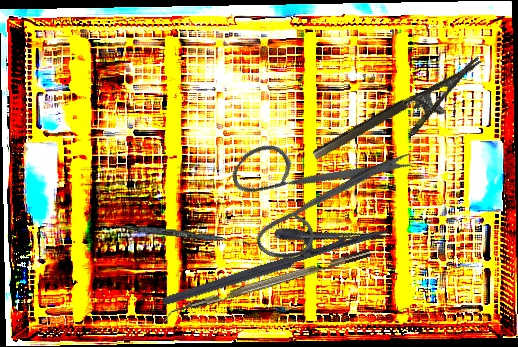Chopper: (160, 248, 375, 327)
Iris Scissors: (205, 75, 419, 294)
Needle Holder: (151, 197, 390, 308), (311, 57, 496, 182)
Spatula Surgical: (109, 222, 252, 246)
